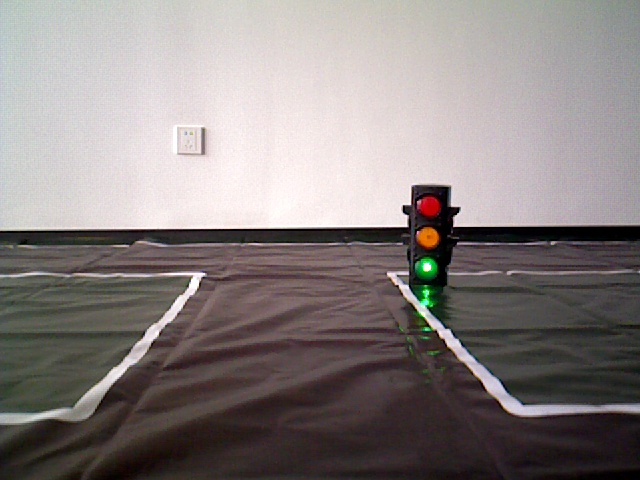green: (410, 190, 445, 281)
